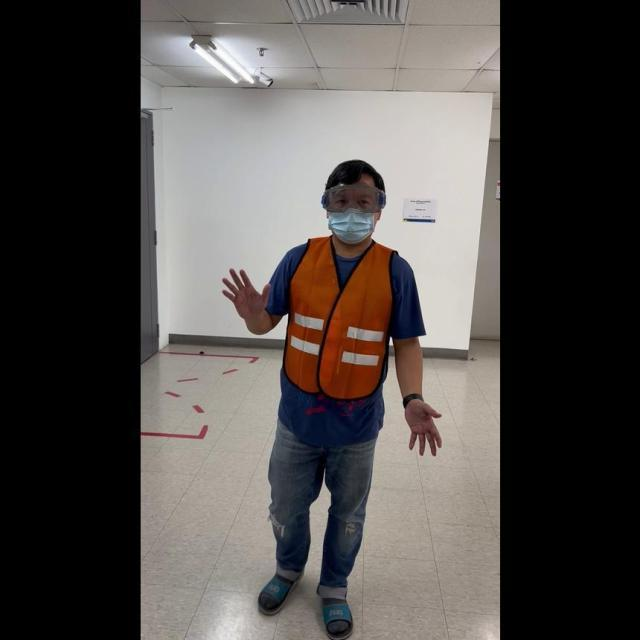bare_hand: (219, 261, 269, 324), (400, 395, 443, 458)
